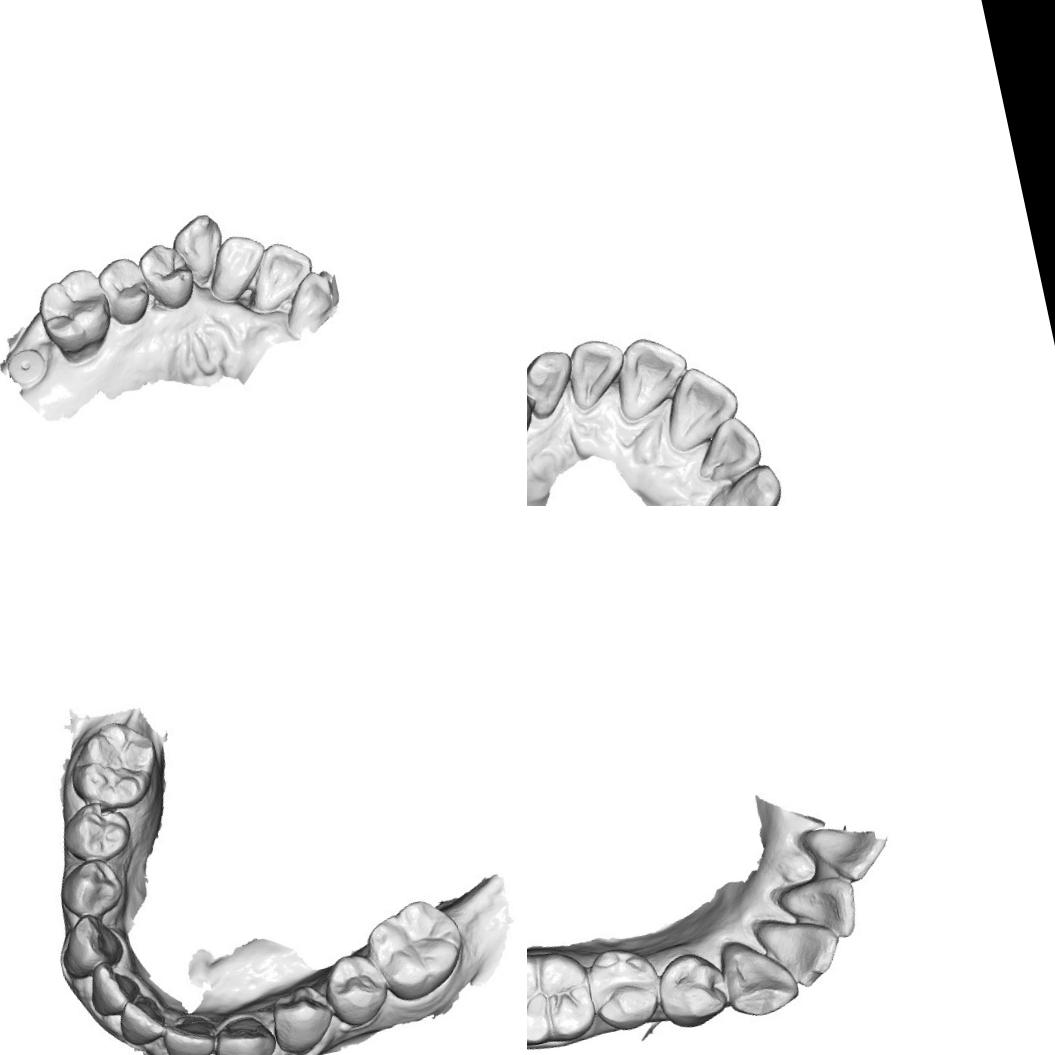canine: (710, 923, 807, 1026), (54, 910, 125, 982), (170, 212, 229, 286), (527, 345, 581, 423), (205, 1002, 284, 1055), (707, 461, 789, 506)
implant: (5, 344, 48, 390)
incisor: (749, 900, 847, 990), (606, 329, 696, 426), (655, 359, 746, 454), (772, 868, 868, 952), (792, 808, 889, 890), (238, 237, 321, 316), (687, 411, 767, 487), (198, 228, 274, 305), (562, 331, 632, 412), (276, 265, 346, 339), (84, 958, 144, 1023), (112, 991, 172, 1050), (156, 1004, 221, 1055)
molar: (362, 893, 471, 1008), (56, 714, 163, 810), (31, 262, 119, 360), (527, 937, 598, 1055)
premolar: (578, 942, 666, 1038), (647, 944, 736, 1036), (54, 850, 130, 926), (267, 978, 342, 1055), (326, 950, 394, 1030), (58, 797, 132, 870), (95, 250, 158, 329), (136, 238, 198, 314)
